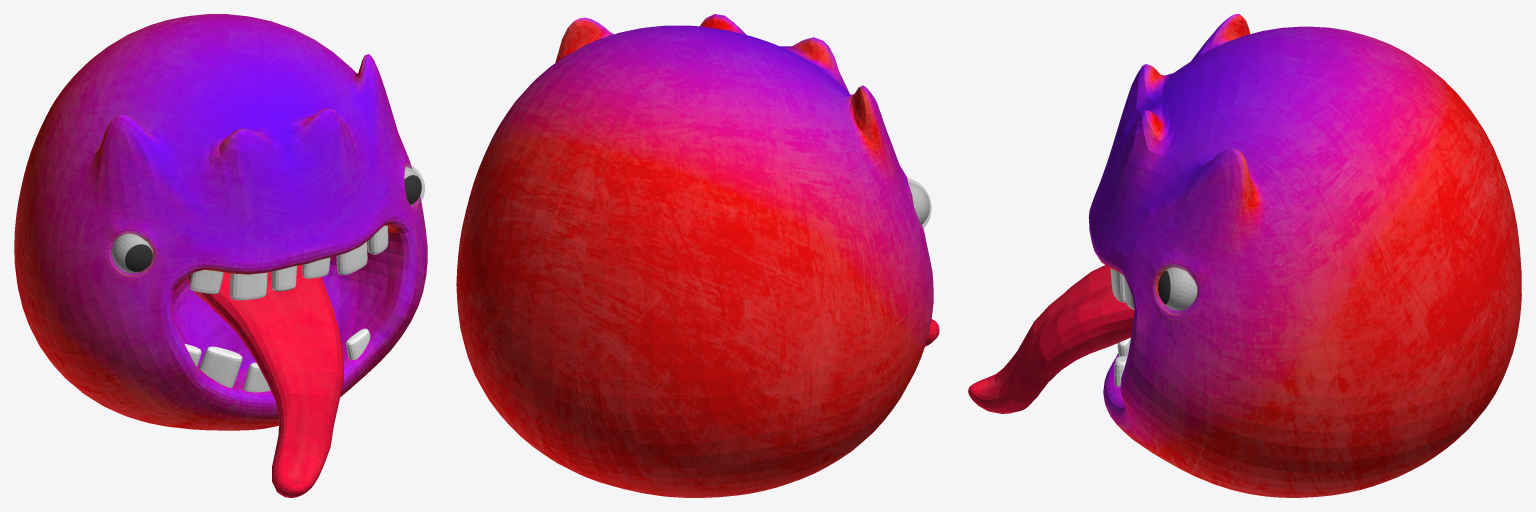
3 renders of one model, left to right at view 1: azimuth 30°, elevation 25°; view 2: azimuth 150°, elevation 25°; view 3: azimuth 270°, elevation 25°, orthographic. The views are drawn at different scales.
Parts seen in each view (by area): view 1: PM3D_Sphere3D_4, LENGUA, DIENTES, Ojo_cristal, OJO1, OJO2; view 2: PM3D_Sphere3D_4, Ojo_cristal, OJO1; view 3: PM3D_Sphere3D_4, LENGUA, Ojo_cristal, OJO2, DIENTES.
Boxes of the visible parts, box(x1,y1,x2,y2) form: PM3D_Sphere3D_4: box(14, 14, 427, 430); LENGUA: box(188, 264, 343, 497); DIENTES: box(184, 225, 388, 392); Ojo_cristal: box(109, 163, 424, 276); OJO1: box(112, 233, 152, 273); OJO2: box(404, 166, 421, 205); PM3D_Sphere3D_4: box(456, 14, 933, 497); Ojo_cristal: box(907, 178, 931, 228); OJO1: box(908, 182, 929, 224); PM3D_Sphere3D_4: box(1088, 14, 1521, 497); LENGUA: box(968, 265, 1134, 413); Ojo_cristal: box(1153, 264, 1197, 314); OJO2: box(1158, 267, 1197, 310); DIENTES: box(1110, 268, 1134, 386).
Bounding box in the file's own units: 2.18 × 2.14 × 2.59.
6 materials, 5 textured.
